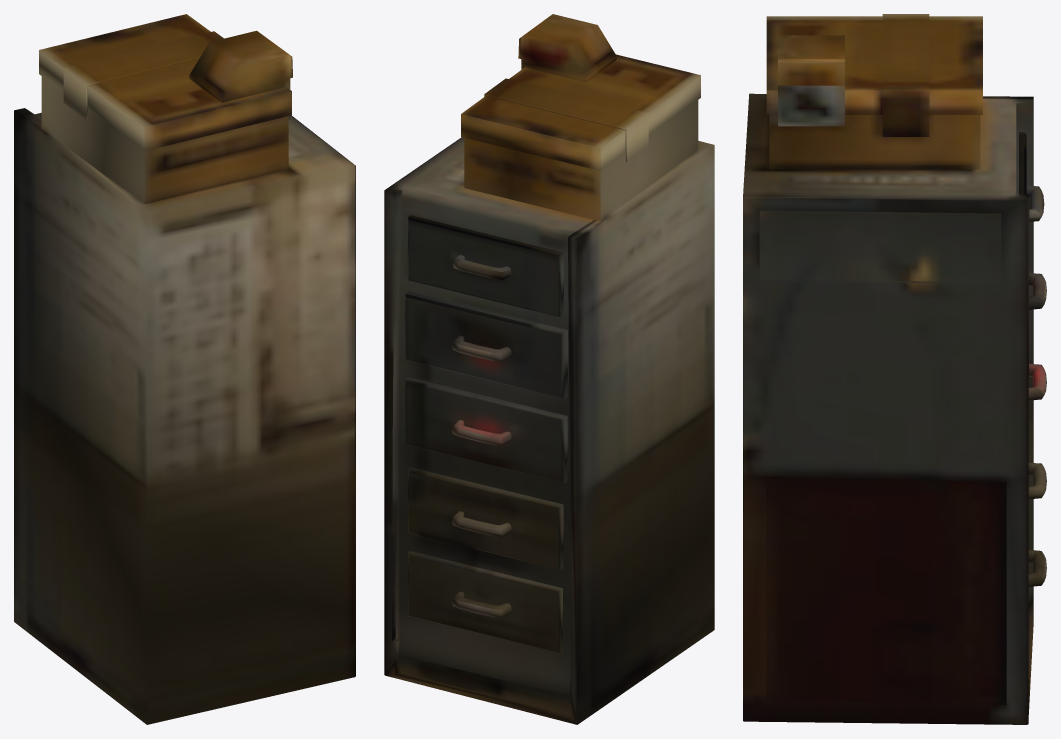
The model's file is OparetionRoom_AI_Prop.023.fbx.
3 views of the same model, side by side, from view 1: azimuth 30°, elevation 25°; view 2: azimuth 150°, elevation 25°; view 3: azimuth 270°, elevation 25° (orthographic). The views are drawn at different scales.
Parts seen in each view (by area): view 1: OparetionRoom_AI_Prop.023; view 2: OparetionRoom_AI_Prop.023; view 3: OparetionRoom_AI_Prop.023.
Part boxes in pixels (box(x1,y1,x2,y2)): OparetionRoom_AI_Prop.023: box(14, 14, 355, 724); OparetionRoom_AI_Prop.023: box(384, 14, 714, 724); OparetionRoom_AI_Prop.023: box(743, 14, 1046, 724).
Bounding box in the file's own units: 83.86 × 234 × 101.
